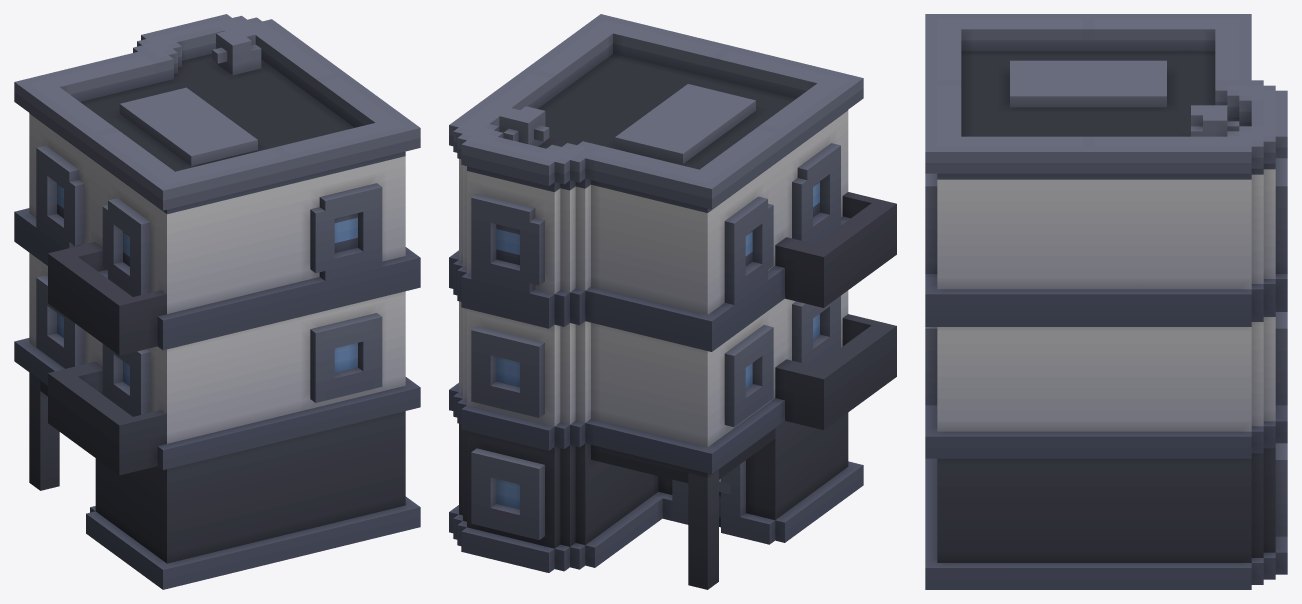
Rendered from building_b.glb.
3 renders of one model, left to right at view 1: azimuth 30°, elevation 25°; view 2: azimuth 150°, elevation 25°; view 3: azimuth 270°, elevation 25°, orthographic. The views are drawn at different scales.
Visible parts, largest first — view 1: voxels; view 2: voxels; view 3: voxels.
Boxes of the visible parts, left/top/right/bottom form: voxels: left=14, top=14, right=420, bottom=589; voxels: left=449, top=14, right=896, bottom=589; voxels: left=925, top=14, right=1287, bottom=589.
Size of the model in its own units: 1 by 1.33 by 0.9697.
